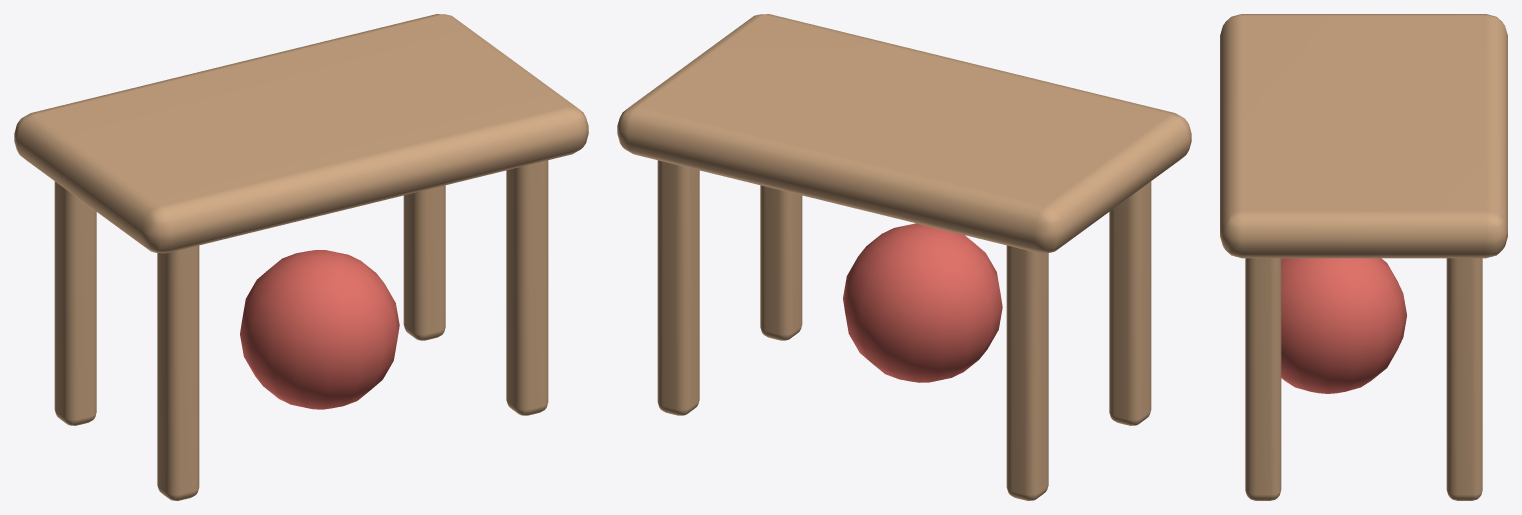
File: ava-position-below.glb
The picture shows the model from 3 angles, left to right: view 1: azimuth 30°, elevation 25°; view 2: azimuth 150°, elevation 25°; view 3: azimuth 270°, elevation 25°; orthographic projection.
Parts seen in each view (by area): view 1: table top, location ball, table leg, table leg.002, table leg.001, table leg.003; view 2: table top, location ball, table leg.001, table leg.003, table leg, table leg.002; view 3: table top, location ball, table leg.002, table leg.003.
Part boxes in pixels (left/top/right/bottom): table top: left=14, top=14, right=588, bottom=253; location ball: left=240, top=250, right=399, bottom=409; table leg: left=157, top=245, right=199, bottom=500; table leg.002: left=506, top=160, right=548, bottom=415; table leg.001: left=54, top=181, right=96, bottom=425; table leg.003: left=403, top=185, right=445, bottom=340; table top: left=617, top=14, right=1191, bottom=253; location ball: left=843, top=223, right=1002, bottom=382; table leg.001: left=1006, top=245, right=1048, bottom=500; table leg.003: left=657, top=160, right=699, bottom=415; table leg: left=1109, top=181, right=1151, bottom=425; table leg.002: left=760, top=185, right=802, bottom=340; table top: left=1220, top=14, right=1507, bottom=258; location ball: left=1281, top=258, right=1406, bottom=393; table leg.002: left=1245, top=258, right=1281, bottom=500; table leg.003: left=1446, top=258, right=1482, bottom=500.
Bounding box in the file's own units: 1.4 × 0.92 × 0.8.
